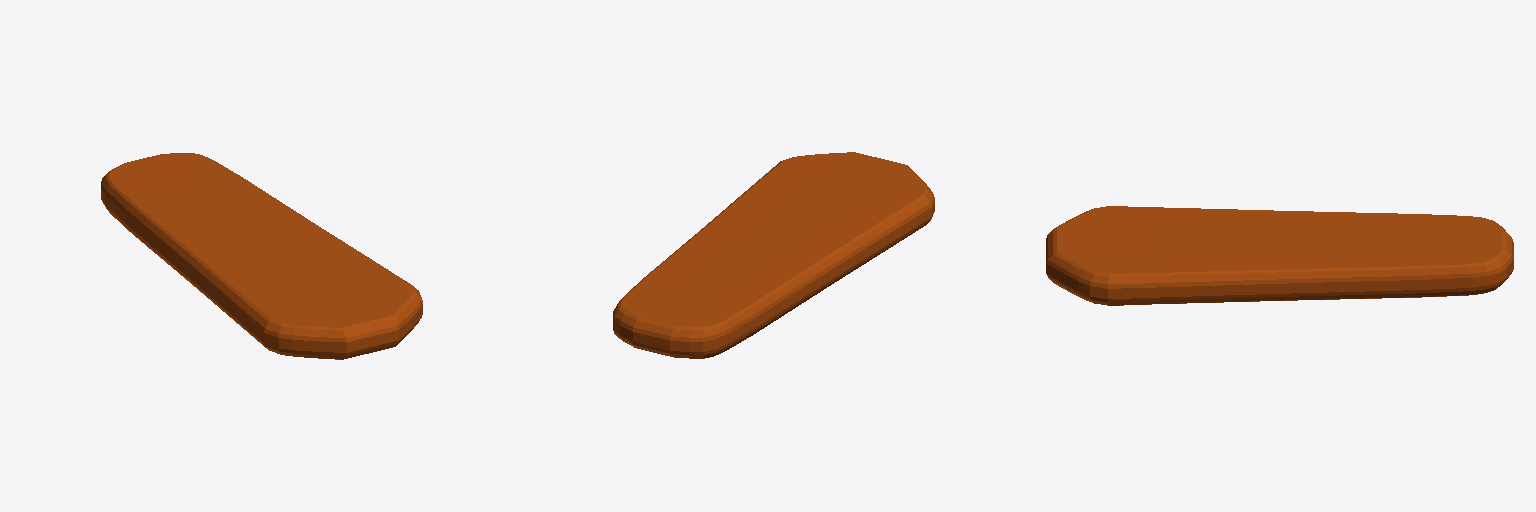
Rendered from tail.obj.
3 views of the same model, side by side, from view 1: azimuth 30°, elevation 25°; view 2: azimuth 150°, elevation 25°; view 3: azimuth 270°, elevation 25° (orthographic).
Parts seen in each view (by area): view 1: Squirrel_Tail; view 2: Squirrel_Tail; view 3: Squirrel_Tail.
Part boxes in pixels (x1,y1,x2,y2): Squirrel_Tail: (101, 153, 422, 359); Squirrel_Tail: (613, 152, 934, 358); Squirrel_Tail: (1046, 206, 1513, 305).
Size of the model in its own units: 23.82 by 4.62 by 61.48.